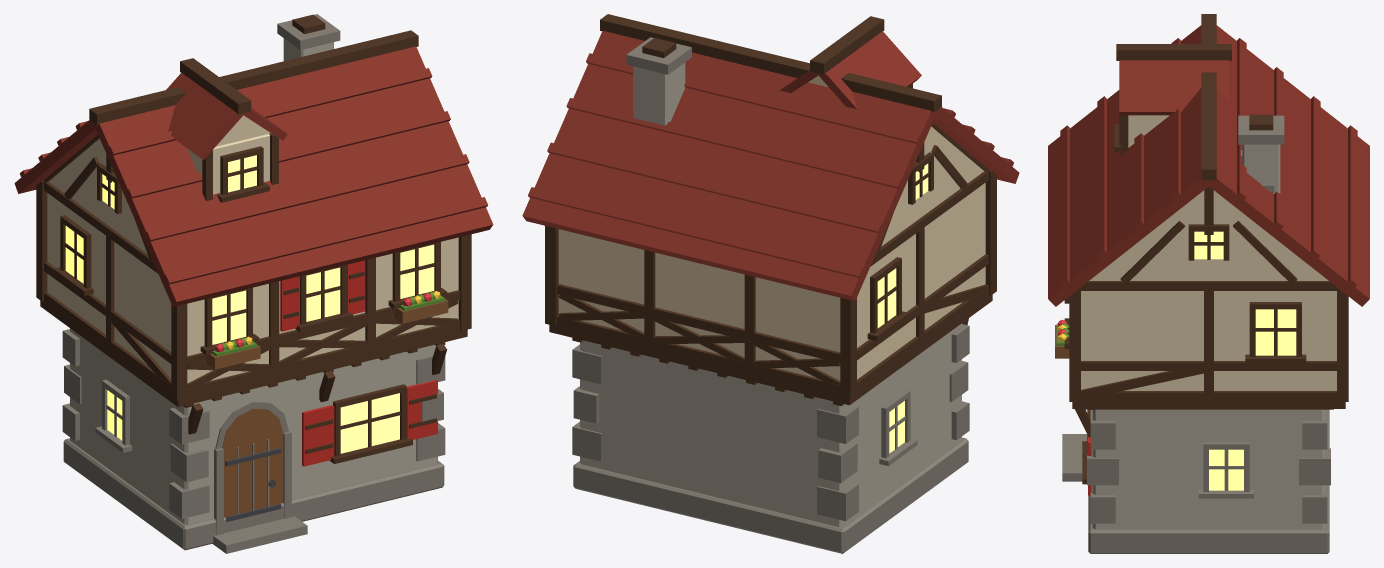
Rendered from Haus_Mittel.fbx.
3 views of the same model, side by side, from view 1: azimuth 30°, elevation 25°; view 2: azimuth 150°, elevation 25°; view 3: azimuth 270°, elevation 25° (orthographic). The views are drawn at different scales.
Visible parts, largest first — view 1: Haus_Mittel; view 2: Haus_Mittel; view 3: Haus_Mittel.
Boxes of the visible parts, box(x1,y1,x2,y2) form: Haus_Mittel: box(14, 14, 493, 553); Haus_Mittel: box(522, 14, 1019, 553); Haus_Mittel: box(1048, 14, 1369, 553).
Size of the model in its own units: 6.34 by 7.92 by 5.53.
